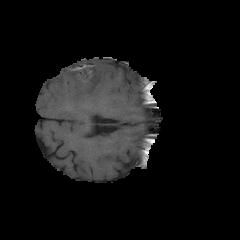glioma: (45, 62, 115, 113)
